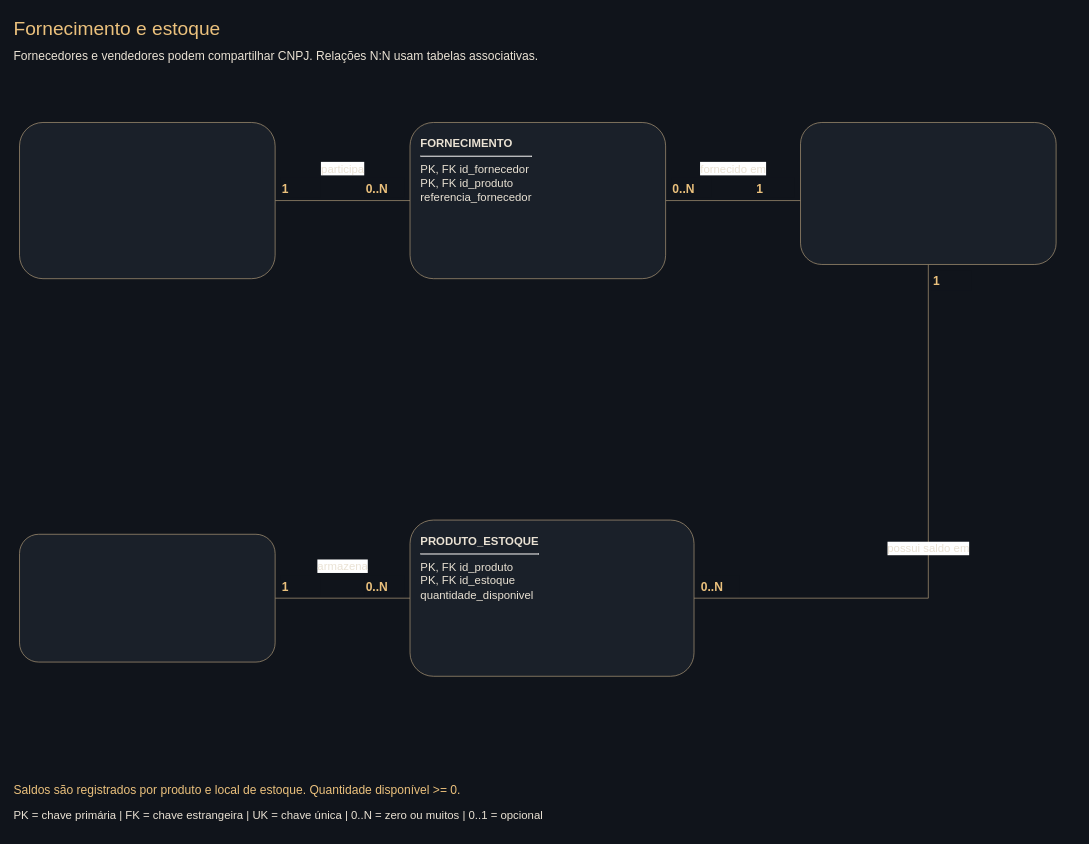
Image size: 1089x844. Some labels were removed from this diagram. Each missing label, with the centre of its shape:
ESTOQUE PK id_estoque localizacao: (x=147, y=598)
FORNECEDOR PK id_fornecedor UK cnpj razao_social: (x=147, y=200)
PRODUTO PK id_produto descricao categoria: (x=928, y=193)
